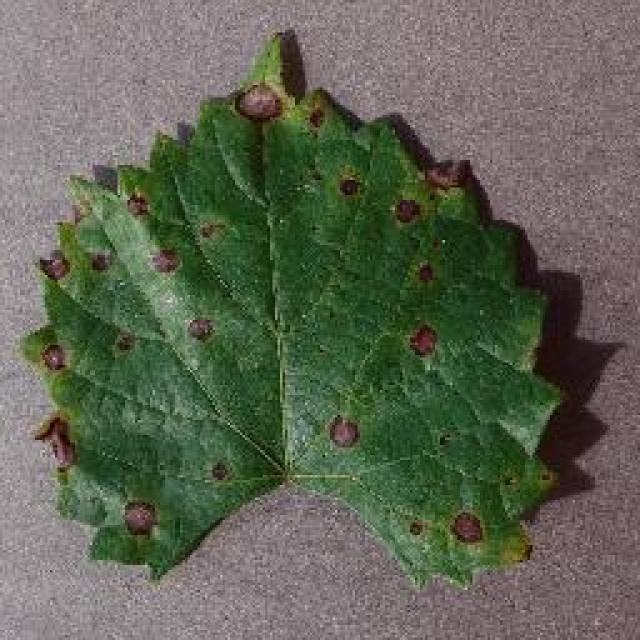Grape___Black_rot: (11, 28, 576, 597)
